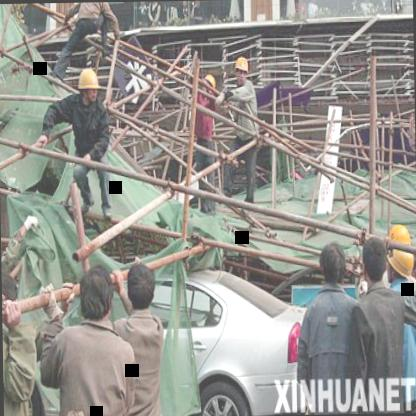head: (76, 262, 118, 324), (124, 256, 160, 315), (316, 237, 354, 286), (361, 233, 390, 284)
helmet: (381, 222, 416, 282), (76, 65, 101, 107), (231, 57, 252, 88), (200, 70, 216, 104)
